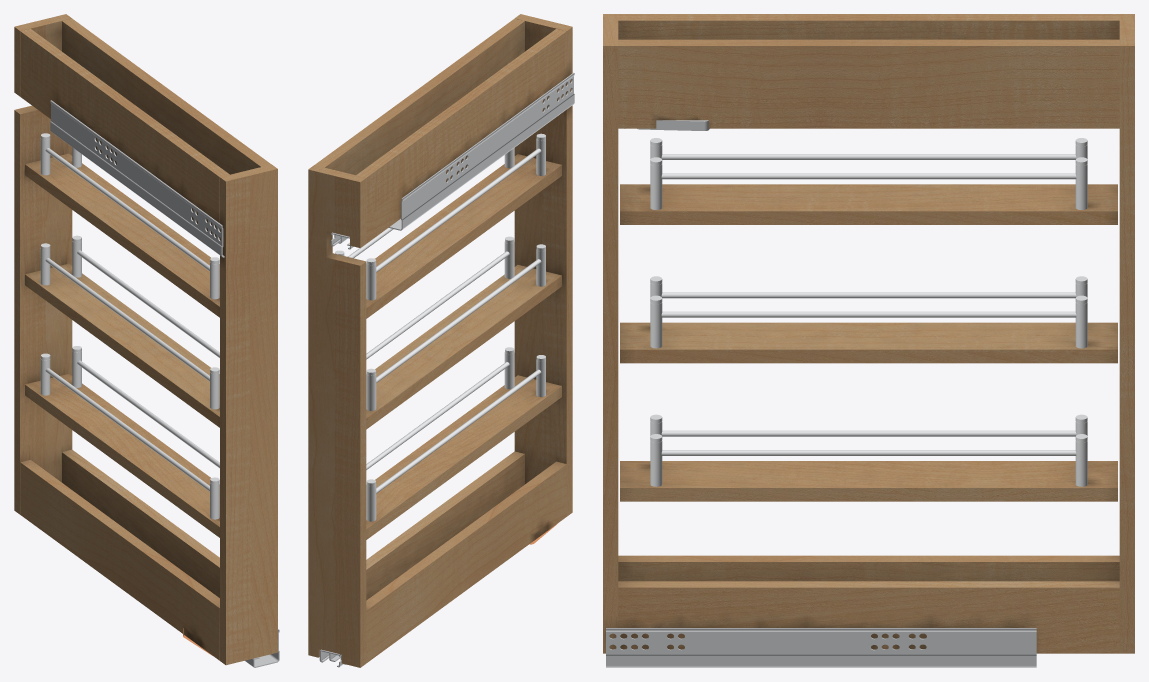
Rendered from inserts-narrow-adjustable-shelf-pullout.glb.
3 renders of one model, left to right at view 1: azimuth 30°, elevation 25°; view 2: azimuth 150°, elevation 25°; view 3: azimuth 270°, elevation 25°, orthographic. The views are drawn at different scales.
Visible parts, largest first — view 1: insert; view 2: insert; view 3: insert.
Boxes of the visible parts, left/top/right/bottom form: insert: left=14, top=14, right=279, bottom=667; insert: left=308, top=14, right=574, bottom=667; insert: left=603, top=14, right=1134, bottom=667.
Size of the model in its own units: 0.0884 by 0.7172 by 0.556.
Materials: 6 (1 with a texture image).
